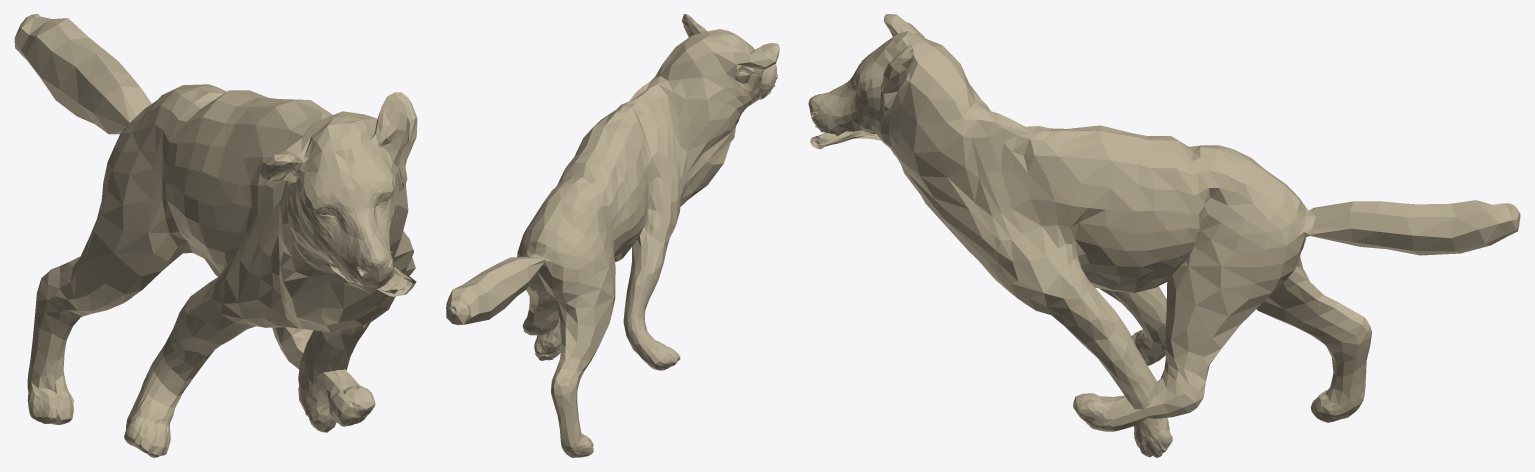
3 renders of one model, left to right at view 1: azimuth 30°, elevation 25°; view 2: azimuth 150°, elevation 25°; view 3: azimuth 270°, elevation 25°, orthographic. The views are drawn at different scales.
Parts seen in each view (by area): view 1: world; view 2: world; view 3: world.
Boxes of the visible parts, bbox=[...] form: world: bbox=[14, 14, 417, 457]; world: bbox=[446, 14, 779, 457]; world: bbox=[808, 14, 1520, 457].
Bounding box in the file's own units: 0.4192 × 0.8385 × 1.33.
